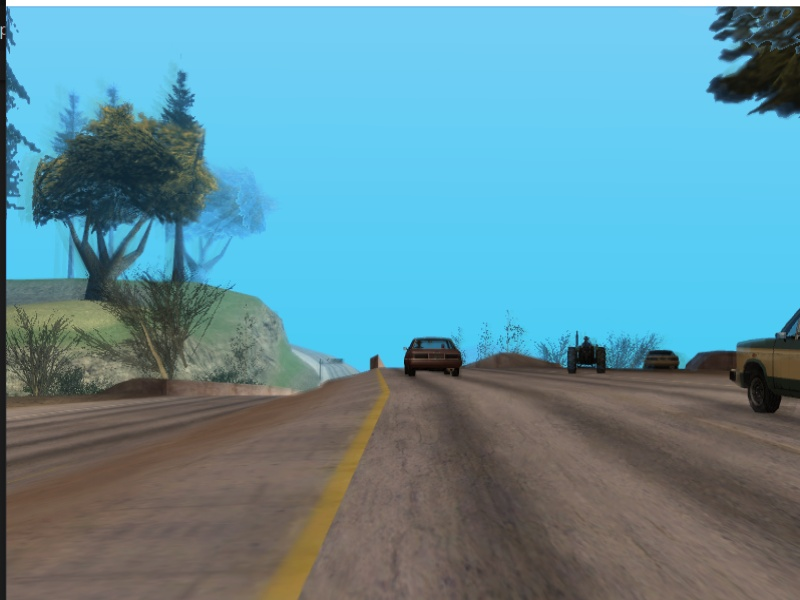vehicle: (740, 269, 800, 415), (402, 334, 466, 379), (566, 331, 608, 378), (644, 349, 680, 371)
